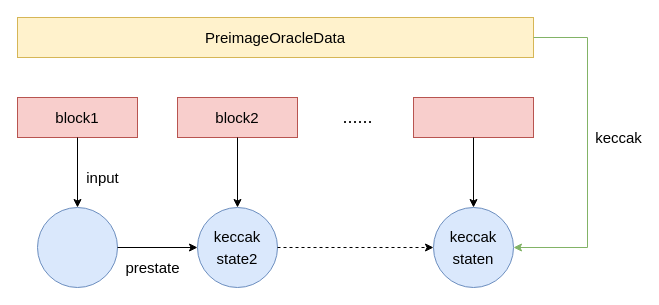
The diagram is 659 pixels wide and 305 high, and some of its shapes have lost their labels. Here are the shapes that lost their labels. From the top down, the centre of each, then its label:
At (x=473, y=117): "block3".
At (x=77, y=247): "keccak state1".
